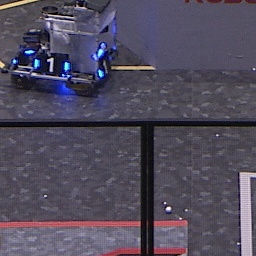Blue: (33, 55, 70, 76), (97, 54, 113, 78)
Robot: (8, 1, 122, 95)
